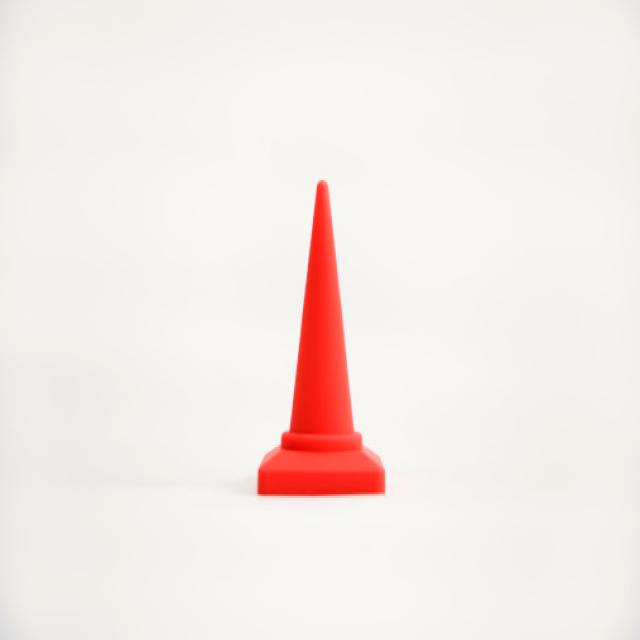cone: (255, 175, 389, 492)
